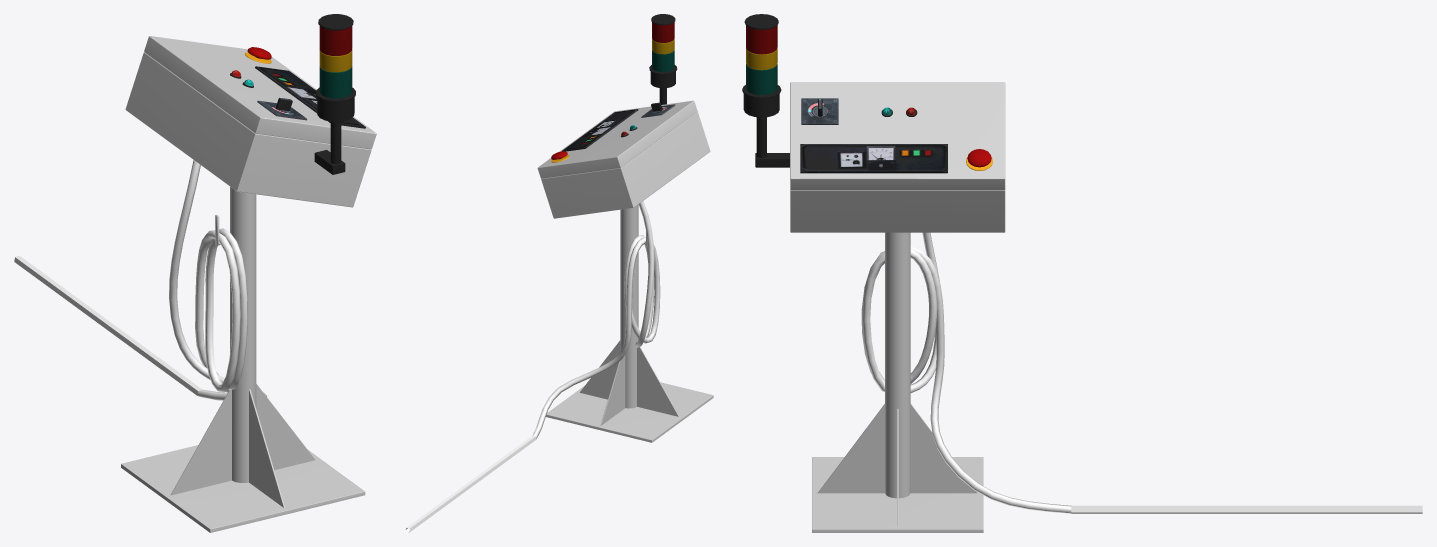
Rendered from Controller_3.glb.
The picture shows the model from 3 angles, left to right: view 1: azimuth 30°, elevation 25°; view 2: azimuth 150°, elevation 25°; view 3: azimuth 270°, elevation 25°; orthographic projection. The views are drawn at different scales.
Visible parts, largest first — view 1: Steel, Code_1, Parts, Lamp, Code_2; view 2: Steel, Code_1, Parts, Lamp, Code_2; view 3: Steel, Parts, Code_1, Code_2, Lamp.
Boxes of the visible parts, <box> form: Steel: <box>121,36,376,532</box>; Code_1: <box>169,160,267,400</box>; Parts: <box>230,14,365,174</box>; Lamp: <box>319,26,352,98</box>; Code_2: <box>14,255,201,395</box>; Steel: <box>537,100,713,442</box>; Code_1: <box>533,201,660,438</box>; Parts: <box>551,14,677,162</box>; Lamp: <box>652,22,674,72</box>; Code_2: <box>405,435,536,532</box>; Steel: <box>790,82,1005,532</box>; Parts: <box>742,14,992,173</box>; Code_1: <box>861,232,1071,513</box>; Code_2: <box>1071,505,1422,513</box>; Lamp: <box>746,25,777,95</box>.
Size of the model in its own units: 0.4031 by 1.25 by 1.59.
4 materials, 2 textured.
